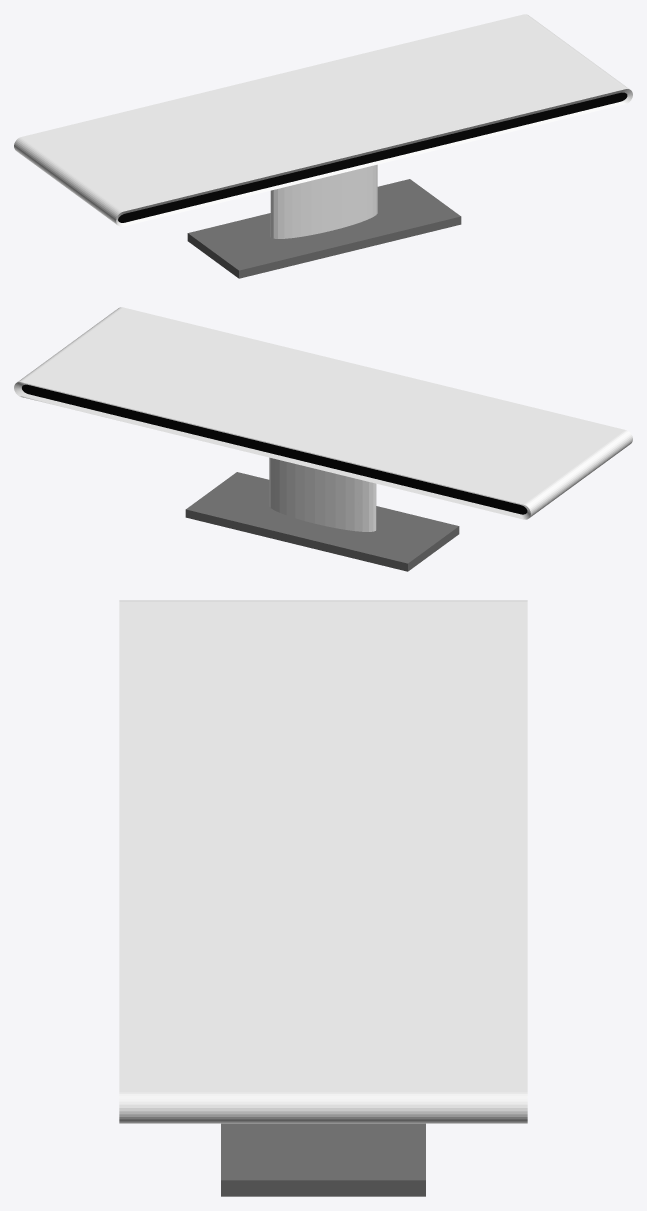
Rendered from table02.obj.
The picture shows the model from 3 angles, top to bottom: view 1: azimuth 30°, elevation 25°; view 2: azimuth 150°, elevation 25°; view 3: azimuth 270°, elevation 25°; orthographic projection. The views are drawn at different scales.
Visible parts, largest first — view 1: 立方体; view 2: 立方体; view 3: 立方体.
Boxes of the visible parts, left/top/right/bottom form: 立方体: left=14, top=14, right=632, bottom=278; 立方体: left=14, top=307, right=632, bottom=571; 立方体: left=119, top=600, right=527, bottom=1196.
Size of the model in its own units: 3.58 by 0.794 by 1.22.
Materials: 1 (1 with a texture image).
